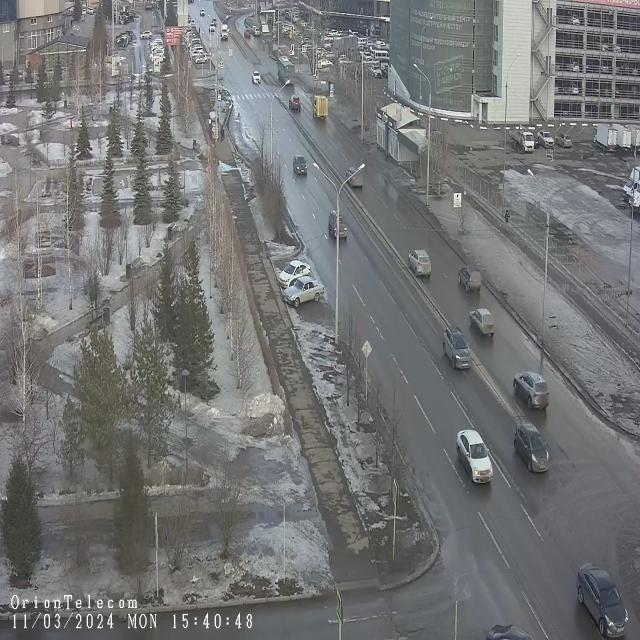car: (574, 559, 629, 638), (456, 427, 494, 487), (514, 419, 550, 475), (512, 370, 550, 414), (282, 272, 325, 309), (444, 321, 472, 373), (278, 258, 310, 292), (468, 304, 496, 340), (458, 263, 483, 297), (408, 246, 432, 281), (592, 124, 618, 156), (509, 126, 535, 155), (328, 208, 348, 242), (276, 55, 296, 88), (312, 95, 329, 123), (346, 166, 364, 191), (536, 126, 554, 151), (554, 129, 572, 151), (294, 153, 308, 176), (288, 94, 301, 112), (251, 70, 261, 86)
